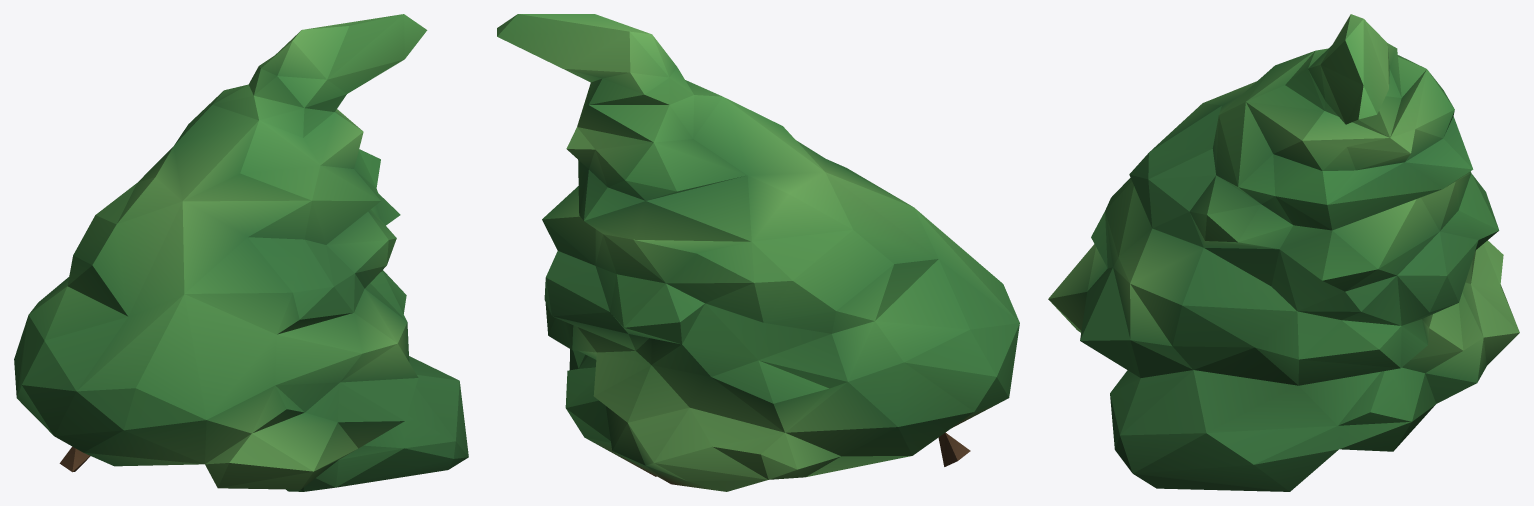
Rendered from pine_windswept_far.glb.
The picture shows the model from 3 angles, left to right: view 1: azimuth 30°, elevation 25°; view 2: azimuth 150°, elevation 25°; view 3: azimuth 270°, elevation 25°; orthographic projection. The views are drawn at different scales.
Parts seen in each view (by area): view 1: pine_windswept_LOD3; view 2: pine_windswept_LOD3; view 3: pine_windswept_LOD3.
Part boxes in pixels (x1,y1,x2,y2): pine_windswept_LOD3: (14,14,468,491); pine_windswept_LOD3: (497,14,1019,491); pine_windswept_LOD3: (1048,14,1519,491).
Bounding box in the file's own units: 8 × 6.98 × 6.69.
